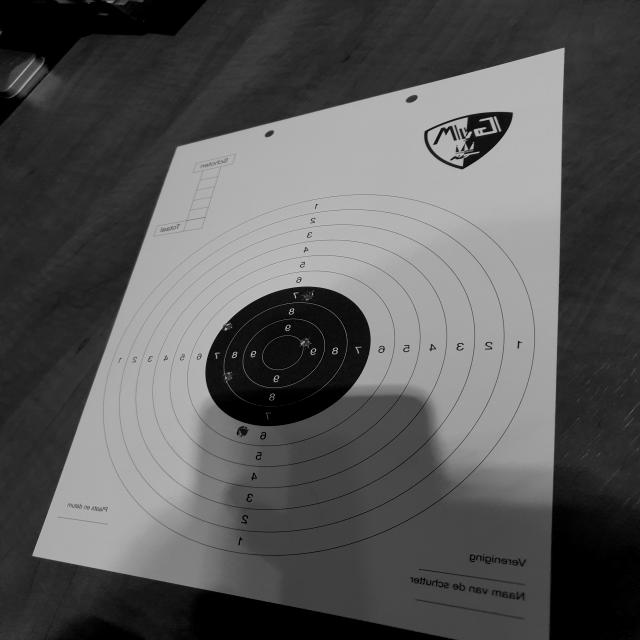10: (300, 336, 315, 348)
6: (235, 425, 249, 438)
7: (301, 290, 317, 302), (221, 322, 234, 332)
8: (222, 371, 237, 382)
Target: (95, 194, 537, 557)
black_contour: (204, 286, 370, 426)
